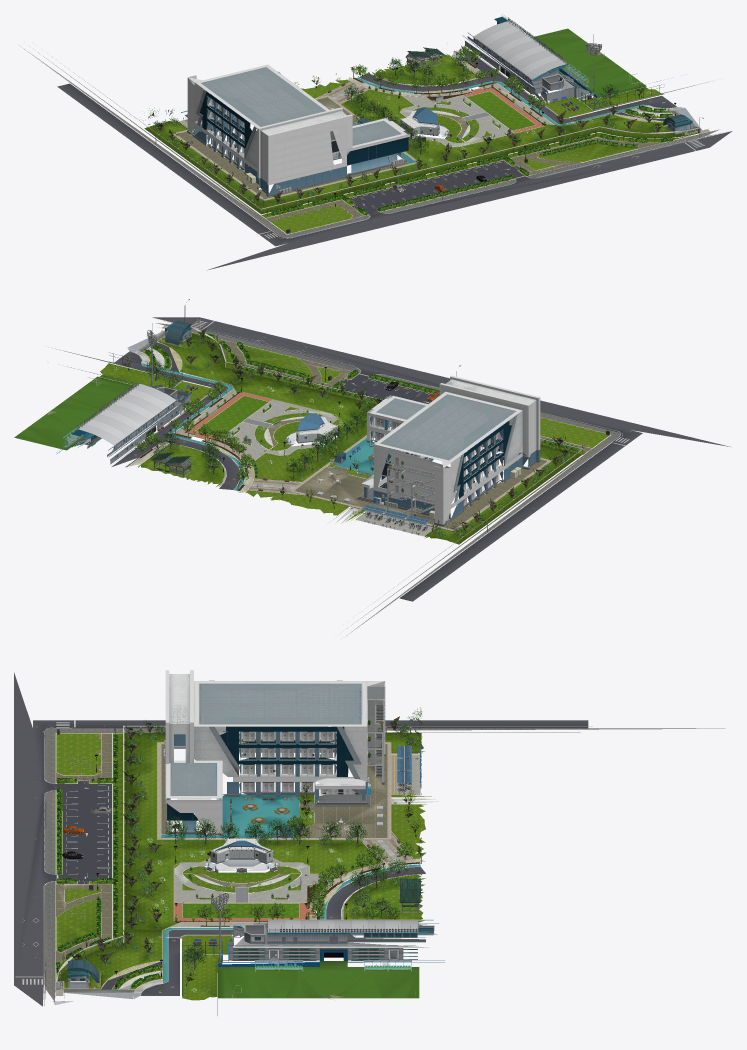
Rendered from raimonF6.glb.
3 views of the same model, one above another, from view 1: azimuth 30°, elevation 25°; view 2: azimuth 150°, elevation 25°; view 3: azimuth 270°, elevation 25° (orthographic). The views are drawn at different scales.
Parts seen in each view (by area): view 1: w40g002__6__309__0_r6, w40h008__6__479__0, w40g002__10__313__0_r6, w40g000__15__342__0_r6, w40g000__14__341__0, w40h021__10__218__0_r6, w40g000__5__332__0, w40g000__3__330__0, w40h021__6__215__0_r6, tr006__0__4242__0, w40h021__3__212__0_r6, w40h021__12__220__0_r6 (+21 smaller); view 2: w40h008__6__479__0, w40g002__6__309__0_r6, w40g002__10__313__0_r6, w40g000__14__341__0, w40g000__3__330__0, w40h021__10__218__0_r6, w40h021__6__215__0_r6, w40g000__5__332__0, w40g000__15__342__0_r6, tr006__0__4242__0, w40g002__11__314__0_r6, w40h021__12__220__0_r6 (+10 smaller); view 3: w40h008__6__479__0, w40g002__6__309__0_r6, w40g002__10__313__0_r6, w40h021__10__218__0_r6, w40g000__14__341__0, w40g000__3__330__0, w40g000__5__332__0, w40g000__15__342__0_r6, w40g002__11__314__0_r6, w40h021__6__215__0_r6, tr004__0__4190__0, w40h021__12__220__0_r6 (+22 smaller).
Part boxes in pixels (x1,y1,x2,y2): w40g002__6__309__0_r6: (144, 54, 698, 234); w40h008__6__479__0: (187, 64, 410, 196); w40g002__10__313__0_r6: (57, 46, 732, 270); w40g000__15__342__0_r6: (19, 45, 719, 237); w40g000__14__341__0: (176, 97, 661, 221); w40h021__10__218__0_r6: (531, 28, 646, 98); w40g000__5__332__0: (172, 61, 698, 238); w40g000__3__330__0: (178, 51, 709, 208); w40h021__6__215__0_r6: (474, 16, 567, 88); tr006__0__4242__0: (373, 51, 545, 108); w40h021__3__212__0_r6: (467, 36, 594, 103); w40h021__12__220__0_r6: (545, 87, 663, 117); w40h008__6__479__0: (355, 375, 540, 526); w40g002__6__309__0_r6: (138, 332, 609, 544); w40g002__10__313__0_r6: (112, 317, 731, 601); w40g000__14__341__0: (216, 338, 591, 529); w40g000__3__330__0: (127, 325, 435, 536); w40h021__10__218__0_r6: (14, 376, 135, 450); w40h021__6__215__0_r6: (71, 383, 176, 445); w40g000__5__332__0: (132, 329, 621, 530); w40g000__15__342__0_r6: (156, 322, 619, 635); tr006__0__4242__0: (145, 380, 254, 468); w40g002__11__314__0_r6: (142, 363, 433, 490); w40h021__12__220__0_r6: (99, 363, 212, 403); w40h008__6__479__0: (163, 670, 385, 835); w40g002__6__309__0_r6: (56, 732, 431, 989); w40g002__10__313__0_r6: (14, 672, 588, 1006); w40h021__10__218__0_r6: (218, 961, 419, 998); w40g000__14__341__0: (56, 733, 387, 963); w40g000__3__330__0: (56, 754, 438, 995); w40g000__5__332__0: (44, 727, 420, 995); w40g000__15__342__0_r6: (45, 728, 725, 1001); w40g002__11__314__0_r6: (161, 794, 420, 983); w40h021__6__215__0_r6: (244, 920, 433, 944); tr004__0__4190__0: (165, 816, 367, 842); w40h021__12__220__0_r6: (182, 935, 232, 1000).
Size of the model in its own units: 229 by 25.43 by 191.
Materials: 146 (145 with a texture image).
